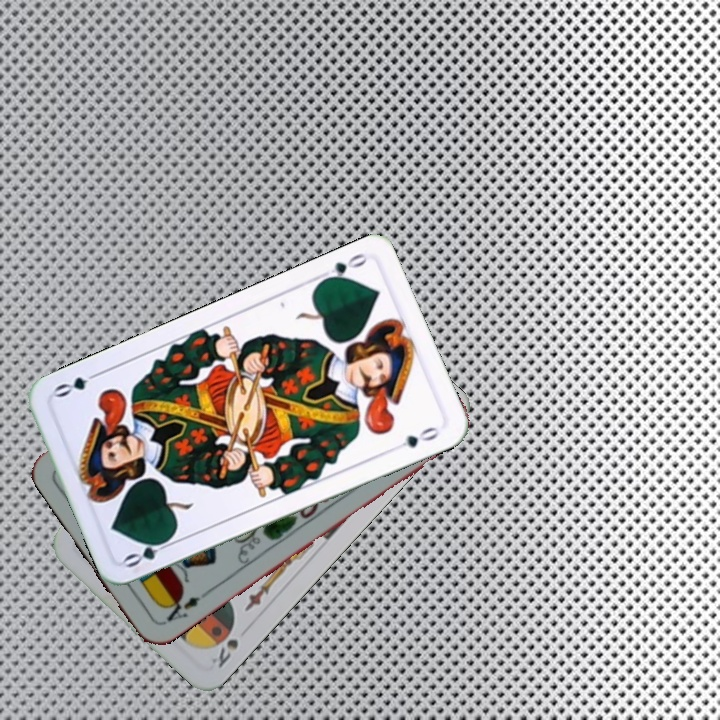EA: (159, 590, 203, 627)
GO: (120, 532, 177, 571), (313, 249, 370, 286)
SK: (207, 635, 241, 671)
